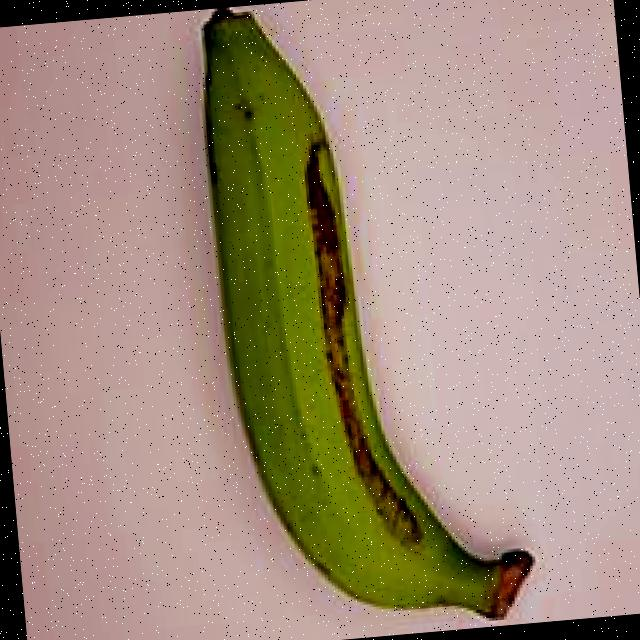Raw: (126, 0, 552, 640)
